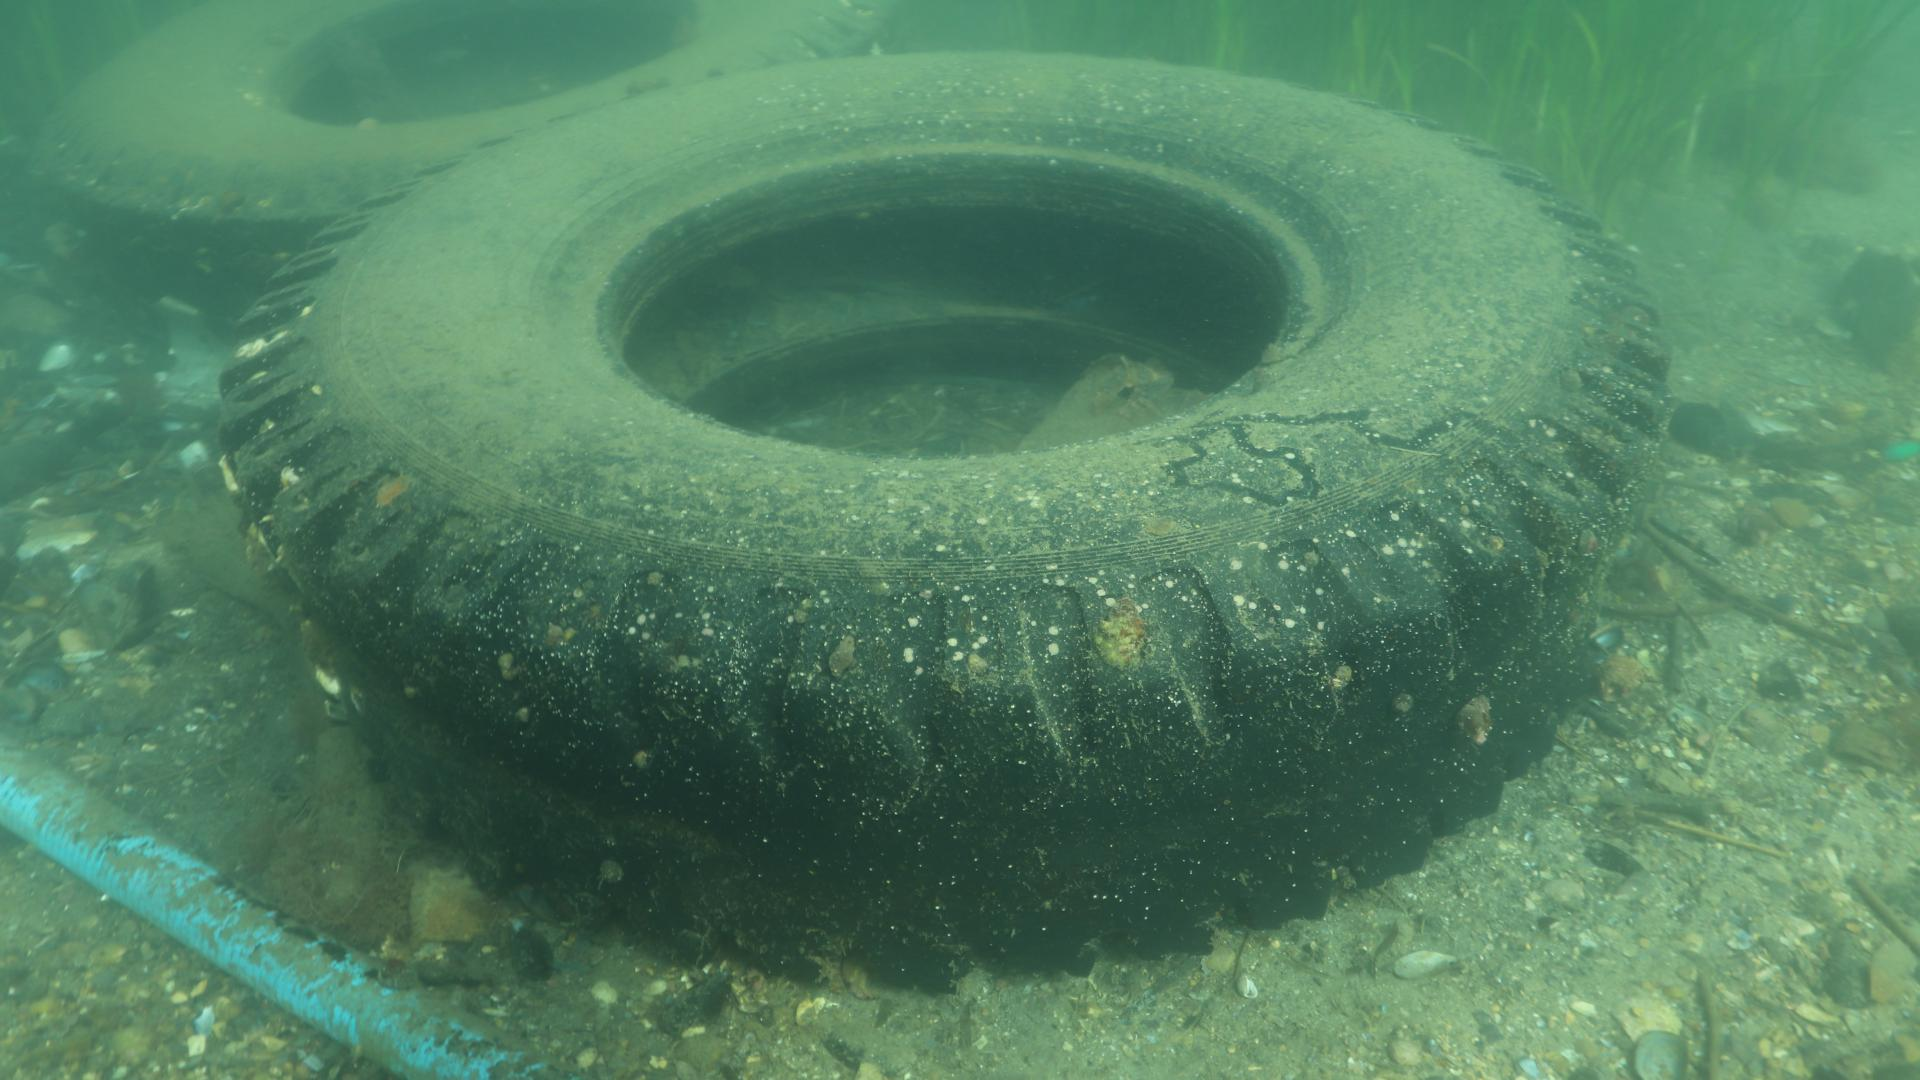tire: (215, 47, 1672, 993), (36, 0, 887, 318)
